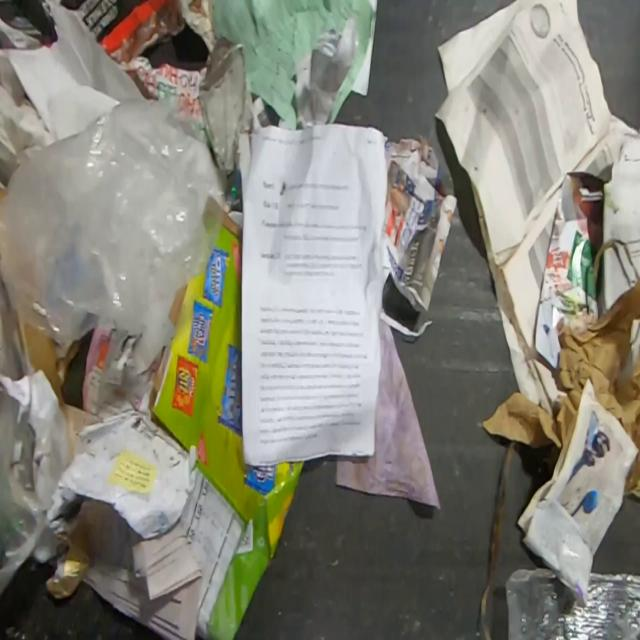cardboard: (148, 212, 308, 640), (479, 273, 640, 501), (116, 53, 209, 144), (12, 310, 84, 410), (173, 0, 216, 52)
soft_plastic: (0, 90, 226, 376), (0, 266, 75, 595), (504, 566, 640, 639), (198, 36, 254, 178)
